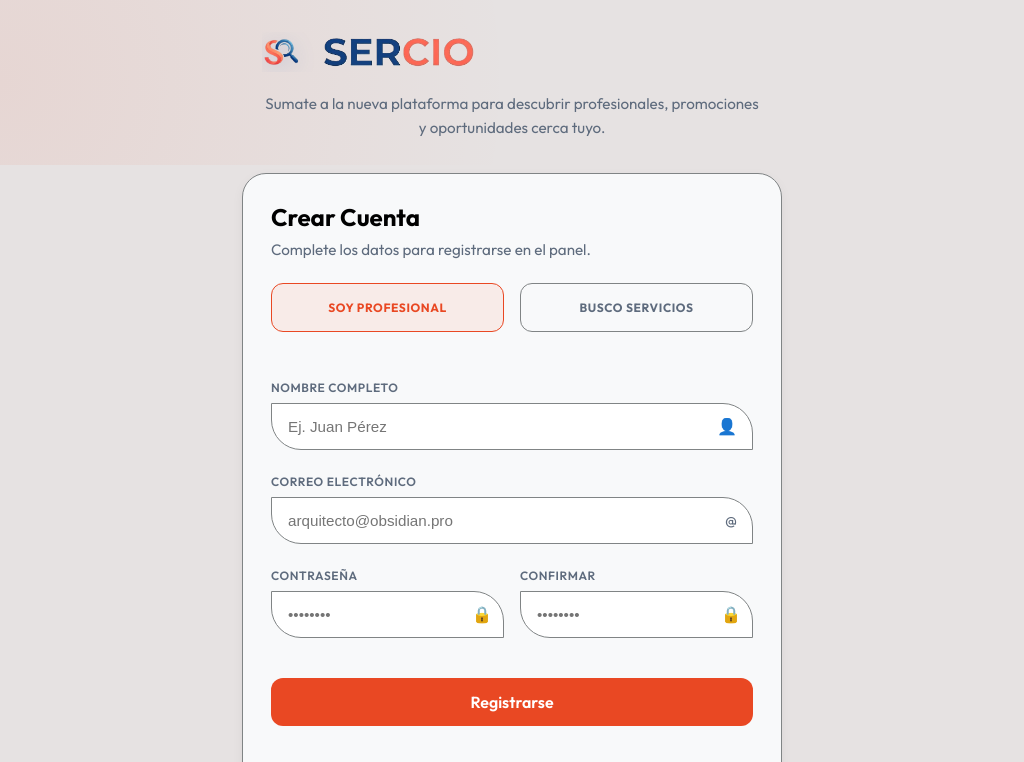
Scenario: RegisterPage › muestra errores de validación si se envía vacío
Step 1. Click the button "Registrarse" → (512, 702), box [271,678,753,726]
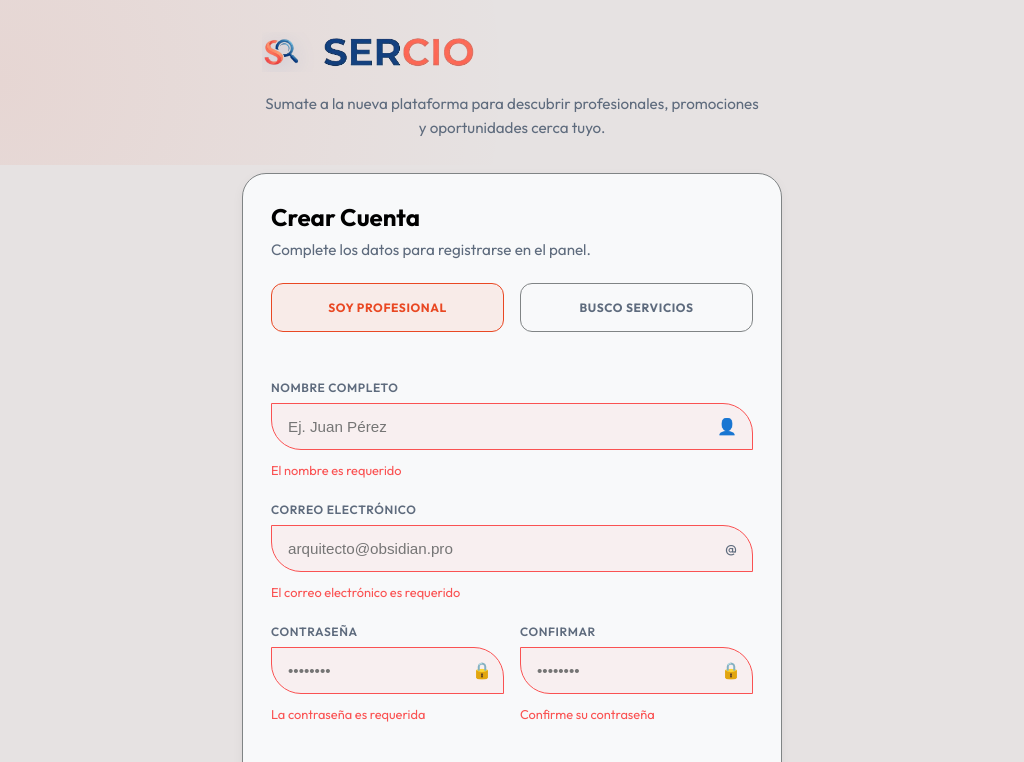
Check: the text "El nombre es requerido" is shown, box [271,462,402,478]
Check: the text "El correo electrónico es requerido" is shown, box [271,584,460,600]
